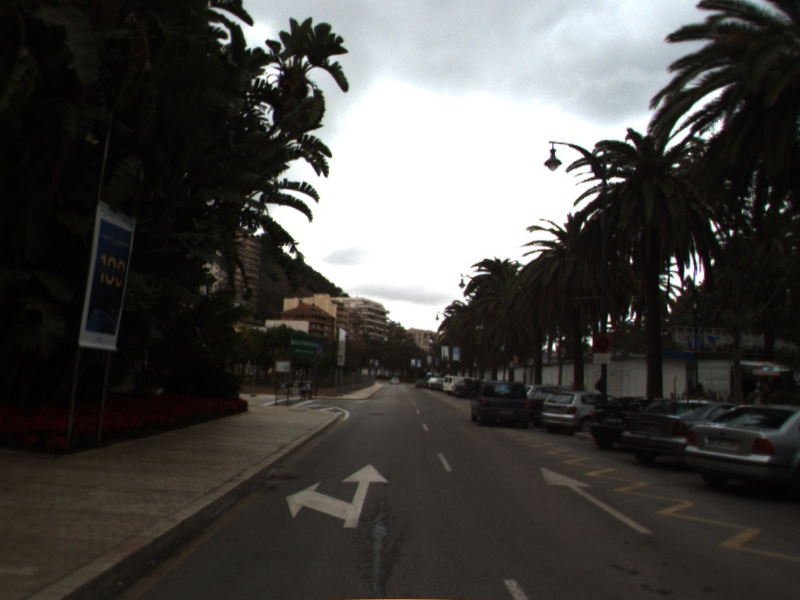STRAIGHT: (539, 465, 654, 536)
STRAIGHT_LEFT: (284, 461, 391, 529)
